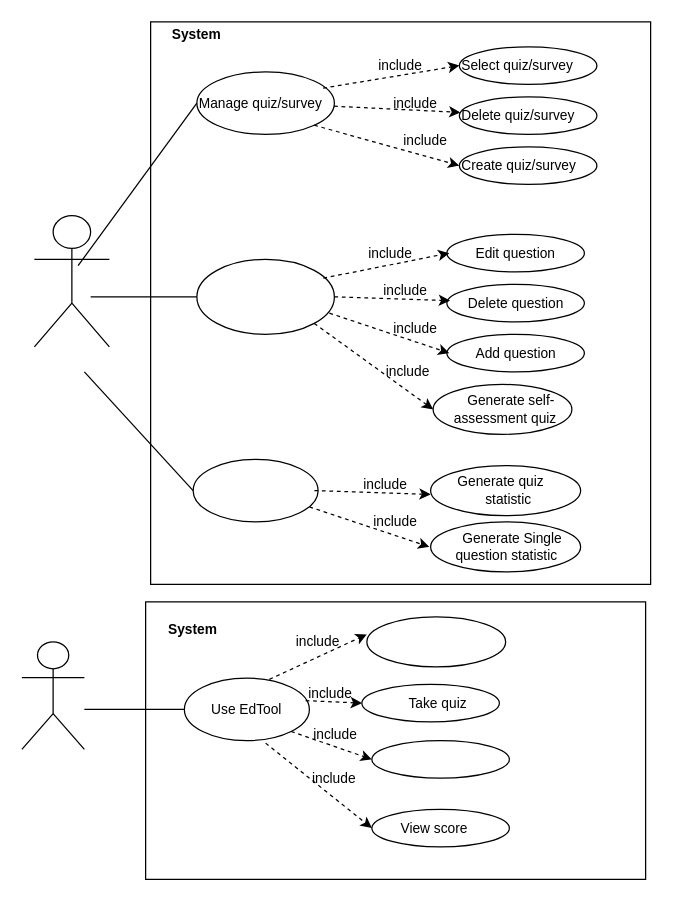
Some shapes in this 673 by 901 pixel diagram are drawn without their labels. Here are the shapes that lost their labels. From the top down, the centre of each, then its label:
pixel 71 280: Educator
pixel 265 296: Manage question in quiz/survey
pixel 255 490: Manage report
pixel 436 641: Take self- assessment
pixel 52 695: Student
pixel 440 758: Take surevey
